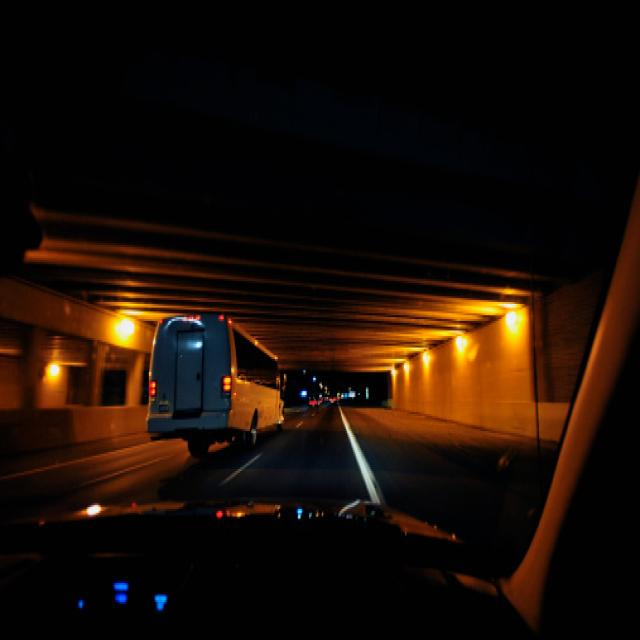Bus: (142, 283, 285, 468)
